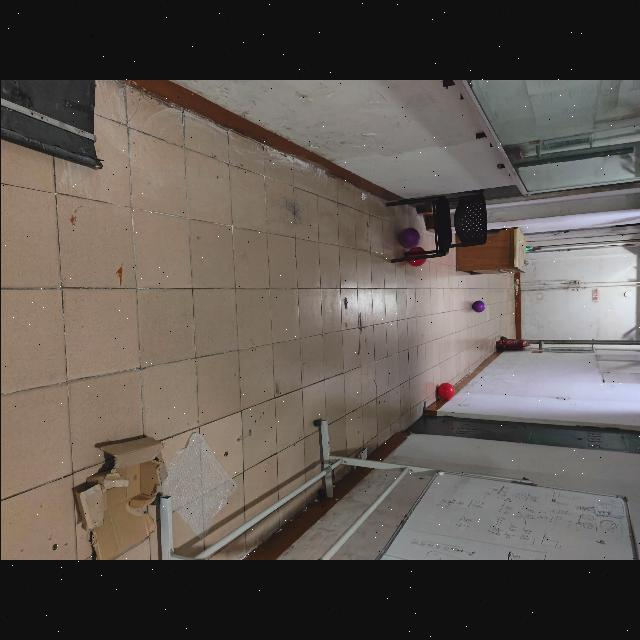B: (406, 247, 426, 267)
P: (398, 227, 420, 247), (471, 300, 485, 312)
R: (435, 382, 453, 400)
